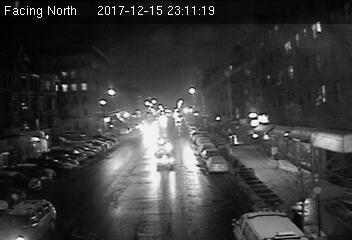car: (1, 199, 58, 240), (206, 156, 229, 173), (157, 152, 175, 169)
police: (231, 206, 315, 240)
